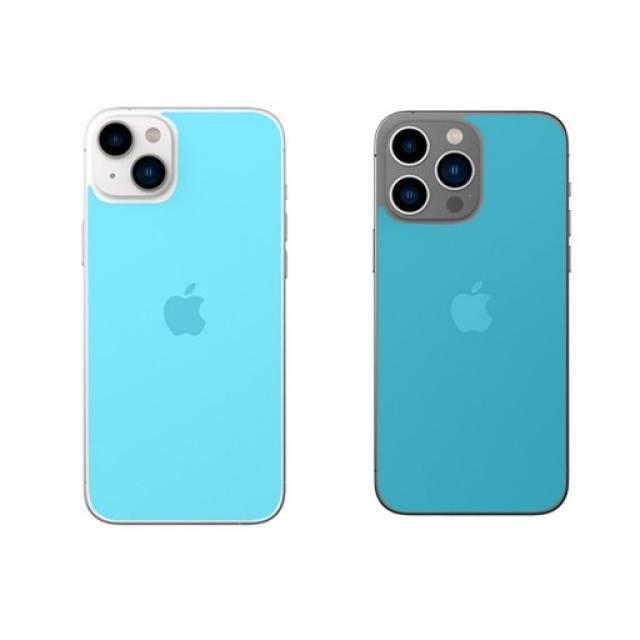phone: (77, 101, 290, 528), (371, 106, 574, 522)
